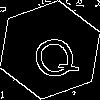Q: (25, 25, 82, 84)
